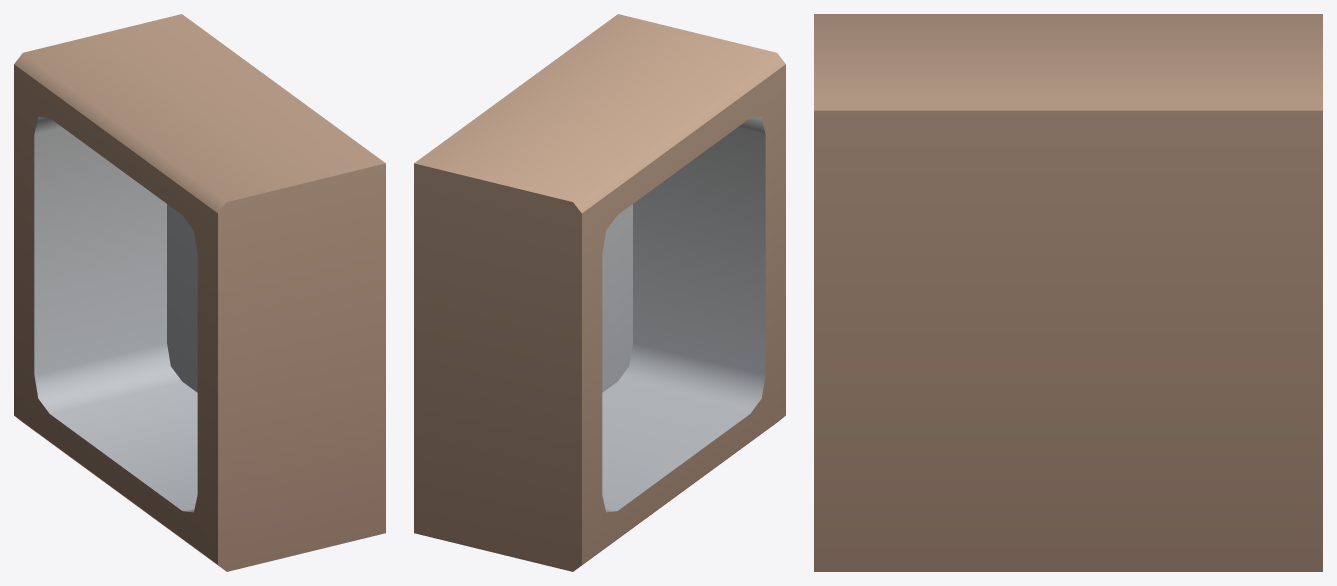
The model's file is cabinet-basic-upper (%wall).glb.
The picture shows the model from 3 angles, left to right: view 1: azimuth 30°, elevation 25°; view 2: azimuth 150°, elevation 25°; view 3: azimuth 270°, elevation 25°; orthographic projection. The views are drawn at different scales.
Parts seen in each view (by area): view 1: cabinet-basic-upper (%wall); view 2: cabinet-basic-upper (%wall); view 3: cabinet-basic-upper (%wall).
Boxes of the visible parts, x1,y1,x2,y2 form: cabinet-basic-upper (%wall): (14, 14, 385, 571); cabinet-basic-upper (%wall): (414, 14, 785, 571); cabinet-basic-upper (%wall): (814, 14, 1322, 571).
Bounding box in the file's own units: 0.2375 × 0.5 × 0.5.
